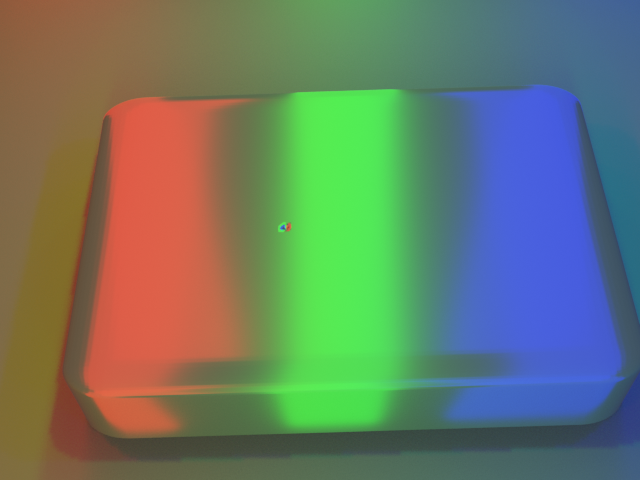dent: (268, 214, 299, 249)
